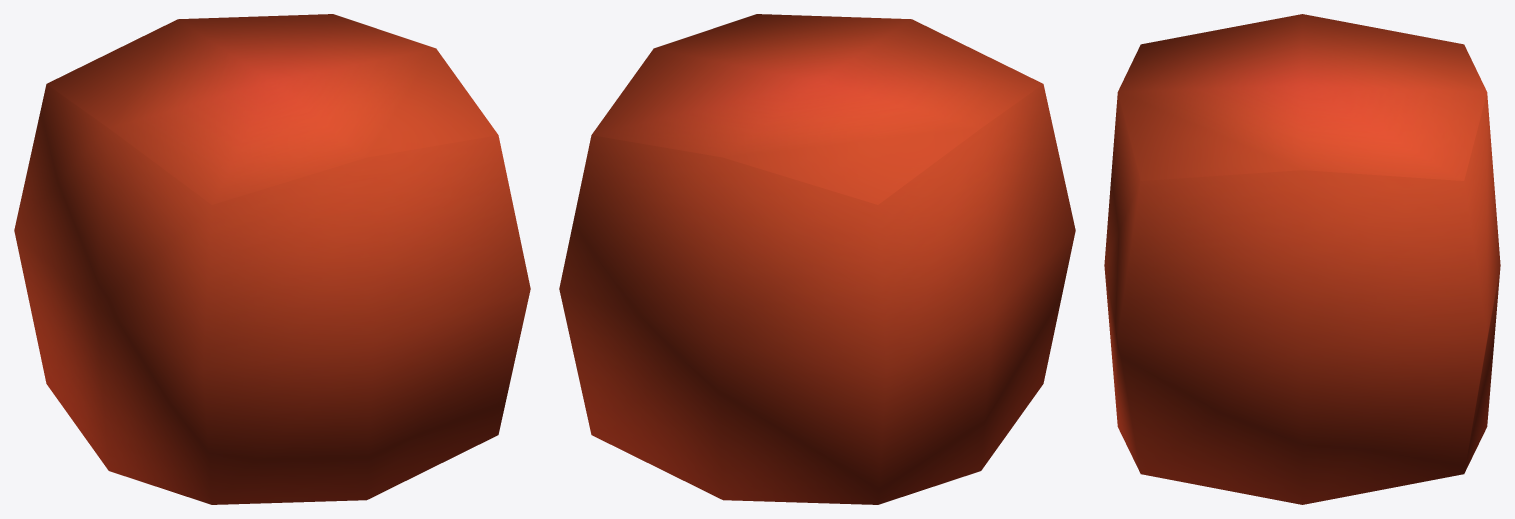
The model's file is ball_small_red.fbx.
The picture shows the model from 3 angles, left to right: view 1: azimuth 30°, elevation 25°; view 2: azimuth 150°, elevation 25°; view 3: azimuth 270°, elevation 25°; orthographic projection. The views are drawn at different scales.
Visible parts, largest first — view 1: ball_small_red; view 2: ball_small_red; view 3: ball_small_red.
Part boxes in pixels (x1,y1,x2,y2): ball_small_red: [14, 14, 530, 504]; ball_small_red: [559, 14, 1075, 504]; ball_small_red: [1104, 14, 1500, 504].
Size of the model in its own units: 24.5 by 23.26 by 24.5.
Materials: 1 (1 with a texture image).
